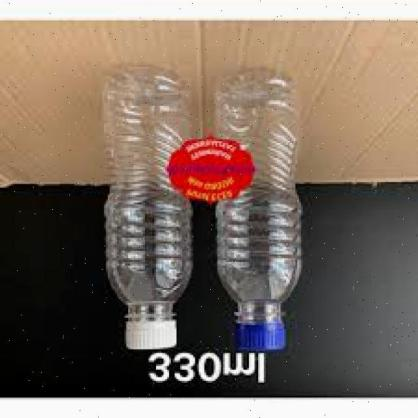bottle: (102, 62, 202, 356), (217, 67, 317, 357)
cap: (122, 314, 180, 352), (229, 317, 291, 352)
